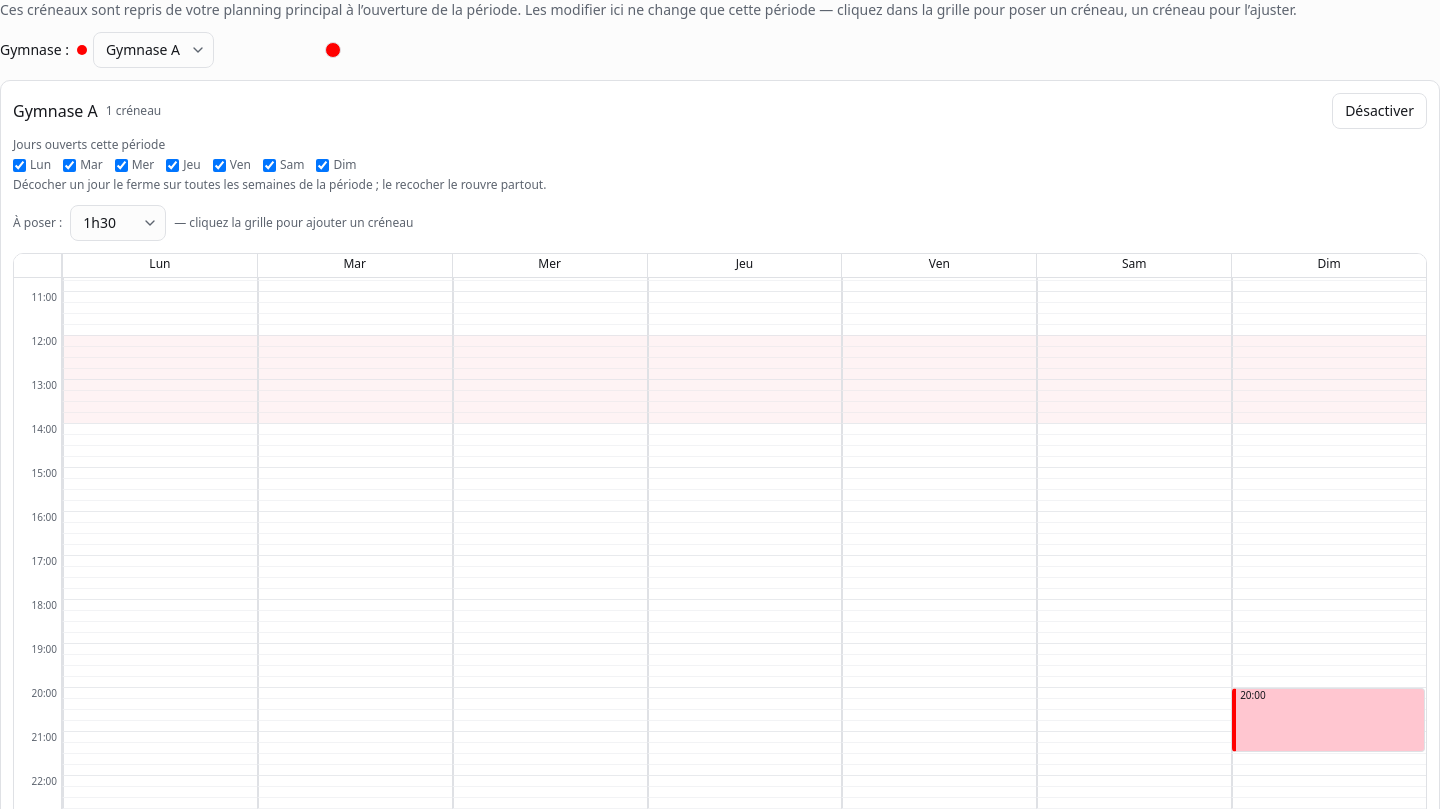
it: PeriodVenues — la grille de la période, gymnase par gymnase › ouvre un créneau DU dimanche sur son vrai jour, pas sur un champ vide
(page scrolled)
Click the button titled "20:00 · Dim 1h30 · capacité 1 — modifier". click: (1329, 720)
box: [1232, 688, 1425, 752]
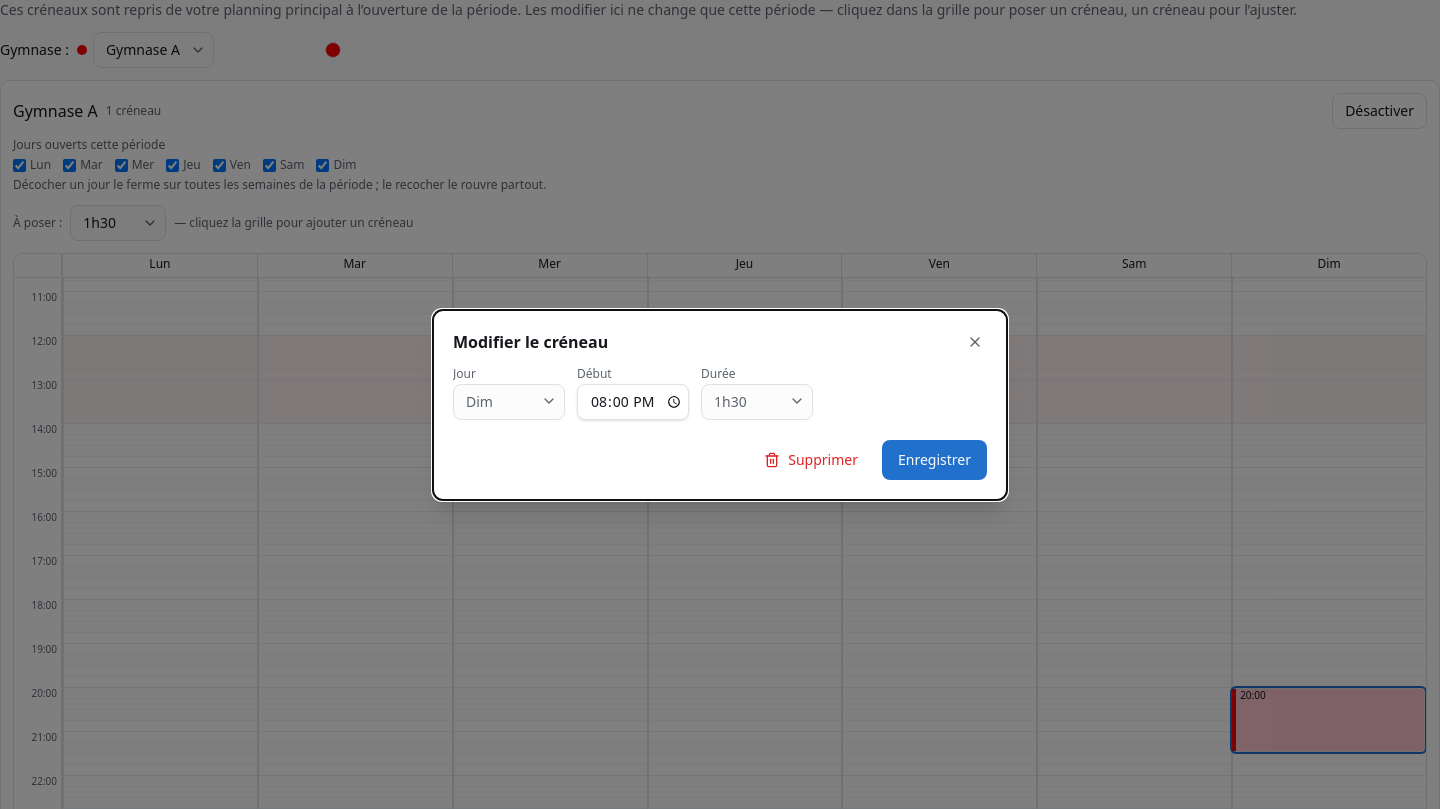
Result: the dropdown labelled "Jour" shows "Dim" at [453, 384, 565, 420]
